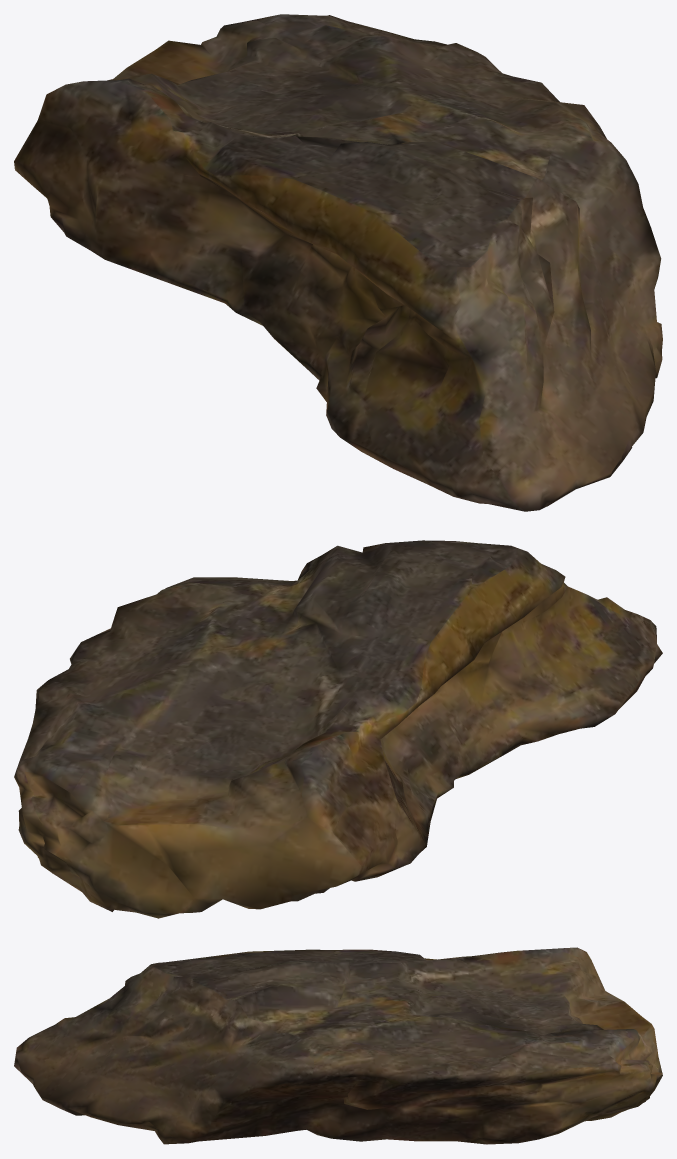
The model's file is rock_b.glb.
3 views of the same model, one above another, from view 1: azimuth 30°, elevation 25°; view 2: azimuth 150°, elevation 25°; view 3: azimuth 270°, elevation 25° (orthographic). The views are drawn at different scales.
Parts seen in each view (by area): view 1: rock_09_LOD0; view 2: rock_09_LOD0; view 3: rock_09_LOD0.
Part boxes in pixels (x1,y1,x2,y2): rock_09_LOD0: (14,14,662,511); rock_09_LOD0: (14,540,662,918); rock_09_LOD0: (14,947,662,1144).
Size of the model in its own units: 0.0739 by 0.0326 by 0.1446.
Materials: 1 (1 with a texture image).
